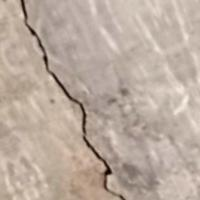crack: (15, 0, 128, 199)
